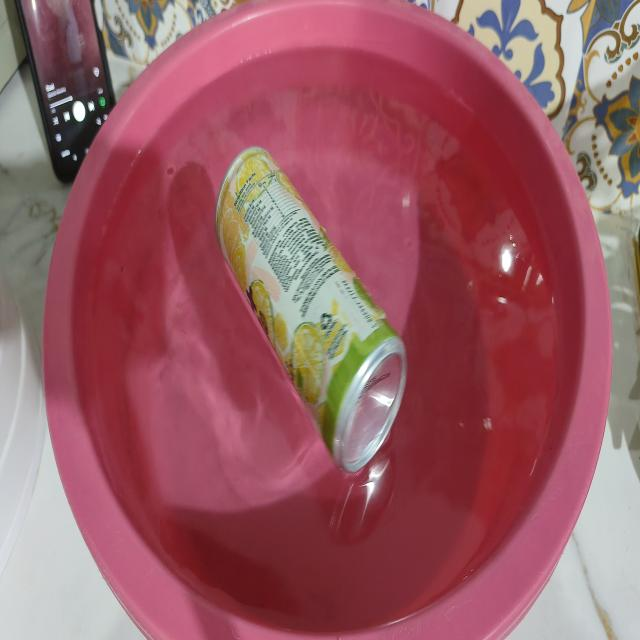Aluminum Can: (216, 147, 406, 472)
